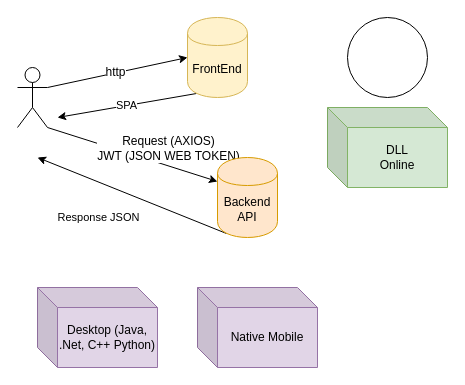
The diagram is 465 pixels wide and 385 high, and some of its shapes have lost their labels. Each missing label, with the box of its shape:
Serverless ! Cookies | Session: (346, 16, 428, 98)
User: (16, 66, 48, 128)
